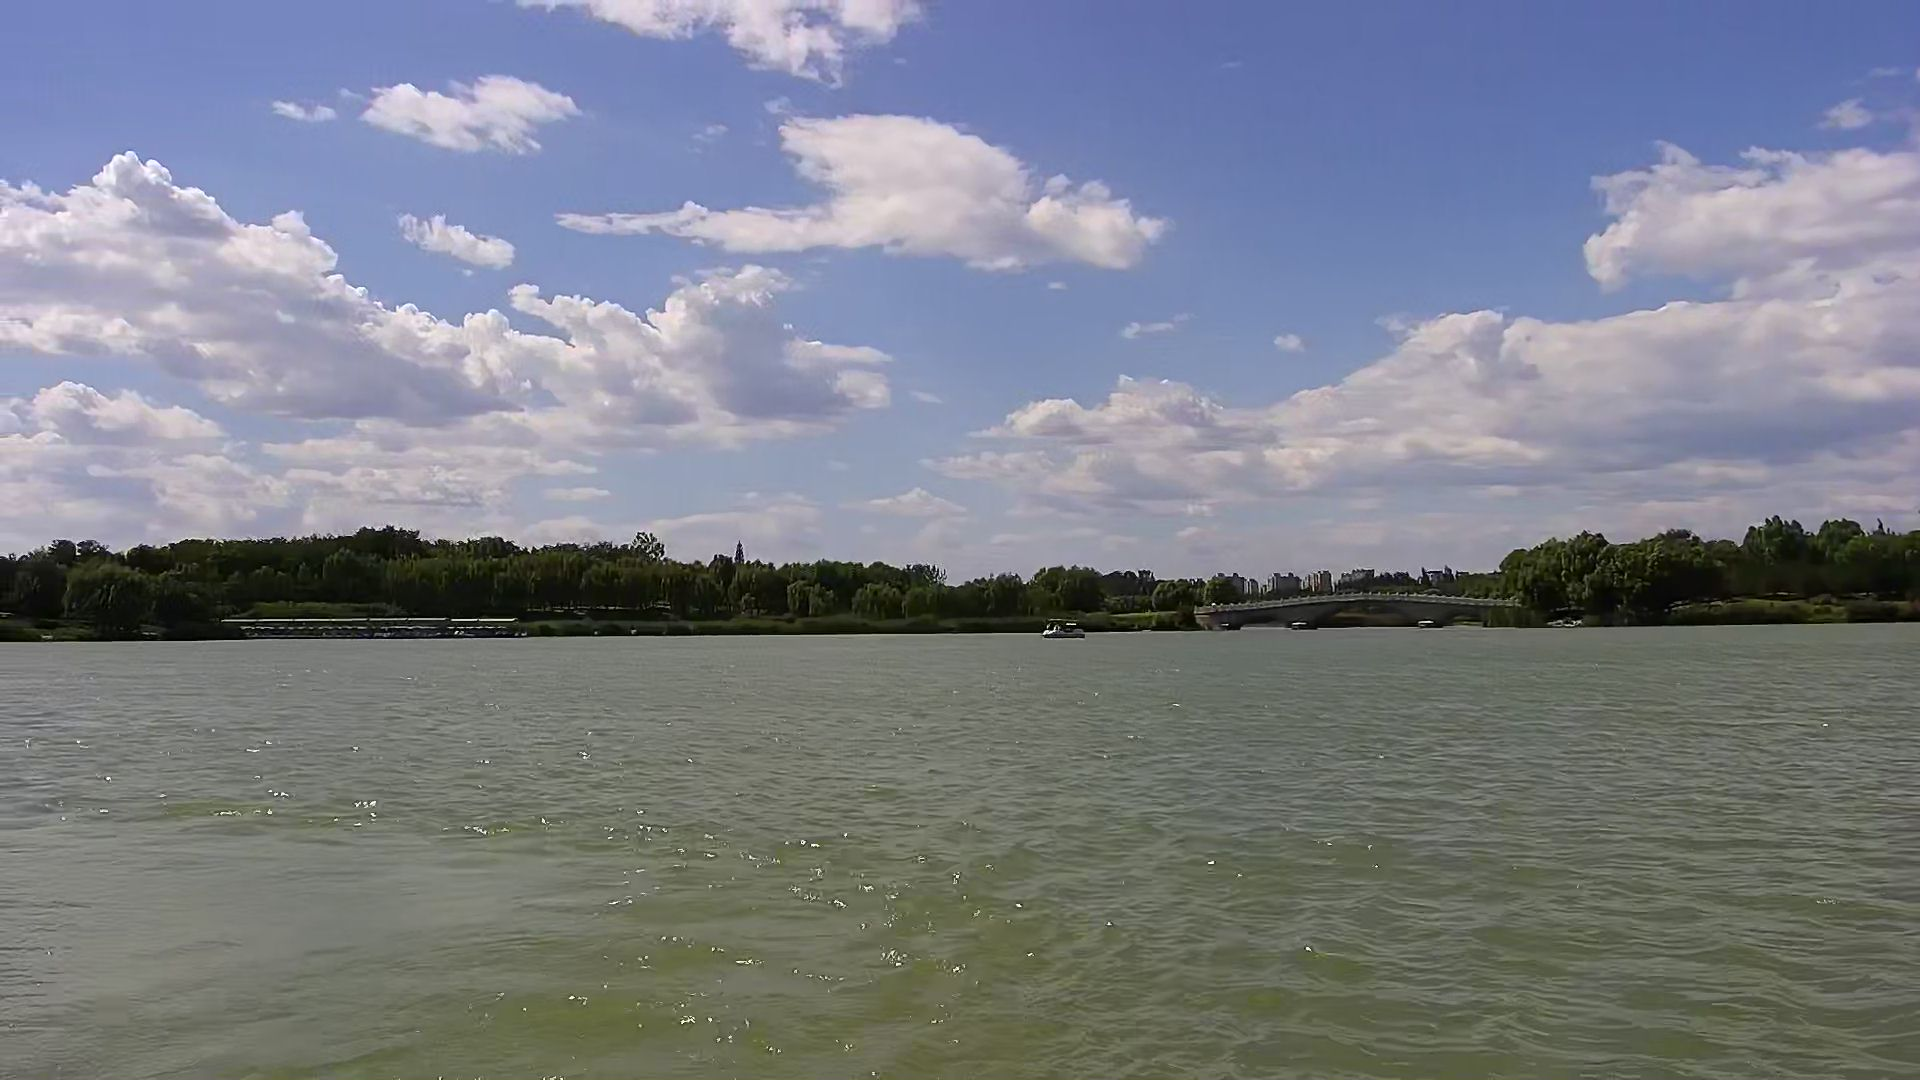boat: (1042, 618, 1087, 640)
bridge: (1195, 589, 1524, 632), (229, 618, 516, 641)
